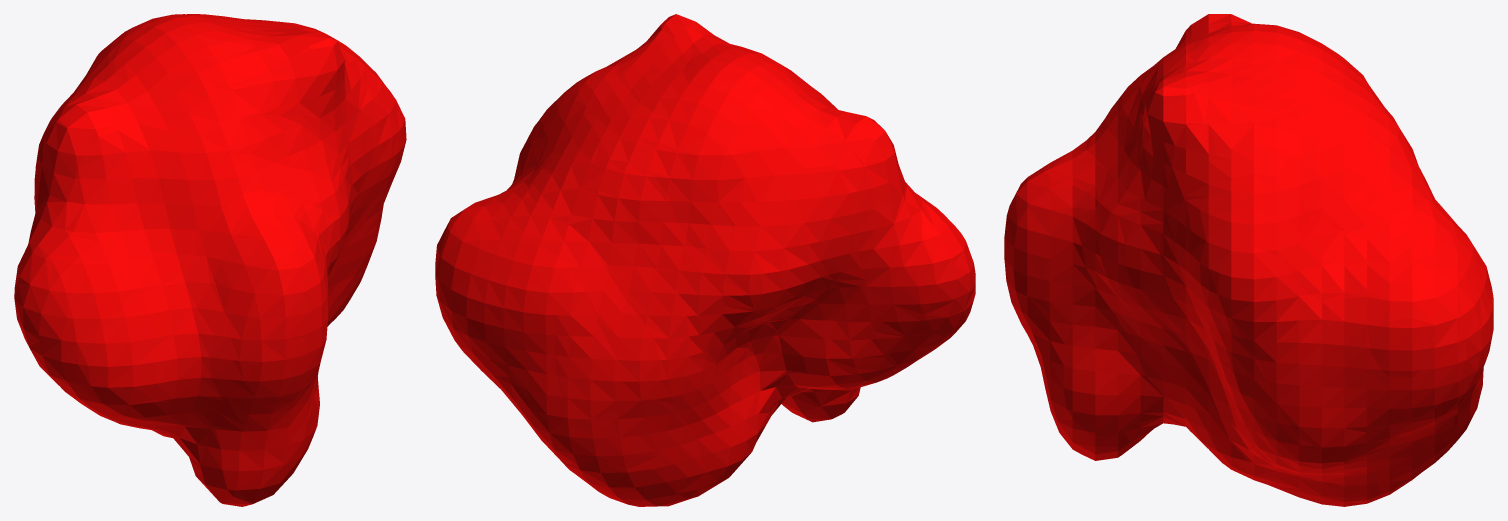
Rendered from eutM_coarse.dae.
3 views of the same model, side by side, from view 1: azimuth 30°, elevation 25°; view 2: azimuth 150°, elevation 25°; view 3: azimuth 270°, elevation 25° (orthographic). The views are drawn at different scales.
Visible parts, largest first — view 1: eutM; view 2: eutM; view 3: eutM.
Boxes of the visible parts, x1,y1,x2,y2 form: eutM: (14, 14, 406, 506); eutM: (435, 14, 975, 506); eutM: (1004, 14, 1493, 506).
Bounding box in the file's own units: 37.49 × 36.41 × 35.69.
